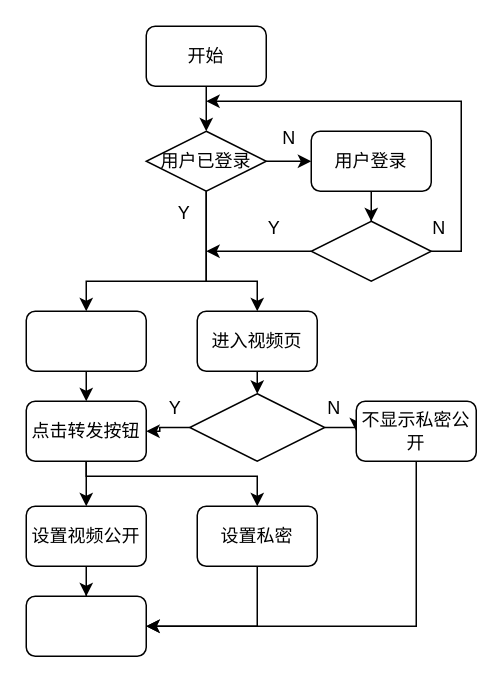
Image size: 503x683. Some labels were removed from this diagram. The shapes that lost their labels are listed below. From the top down, each one's centre as x and y in pixels, then its label:
the point at 370,250: 登录成功
the point at 85,340: 进入私密栏
the point at 256,426: 视频是否 为本人所发布
the point at 85,625: 结束
